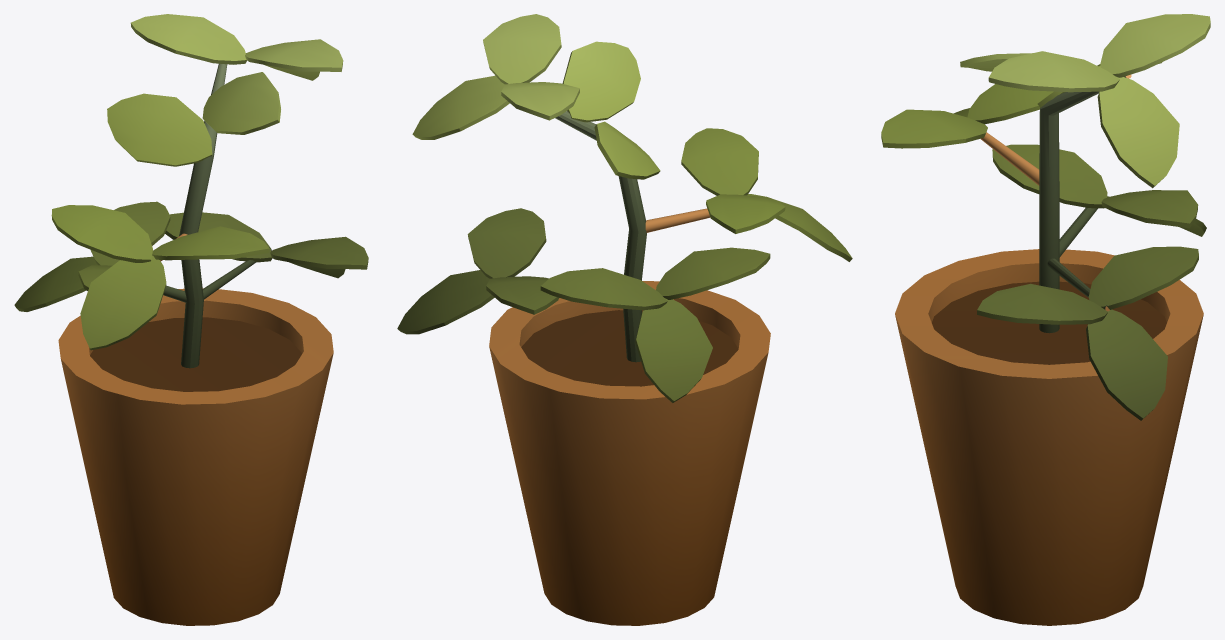
The model's file is Plant.fbx.
3 views of the same model, side by side, from view 1: azimuth 30°, elevation 25°; view 2: azimuth 150°, elevation 25°; view 3: azimuth 270°, elevation 25° (orthographic). The views are drawn at different scales.
Visible parts, largest first — view 1: Plant; view 2: Plant; view 3: Plant.
Boxes of the visible parts, x1,y1,x2,y2 form: Plant: [14, 14, 368, 625]; Plant: [397, 14, 852, 625]; Plant: [881, 14, 1210, 625].
Bounding box in the file's own units: 0.8061 × 1.14 × 0.5934.
